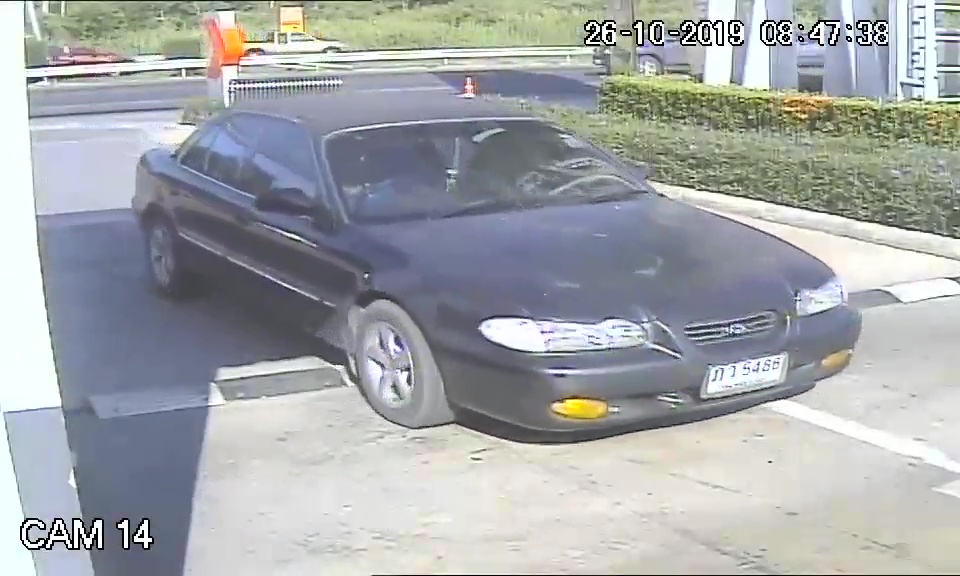sedan: (132, 85, 860, 443)
